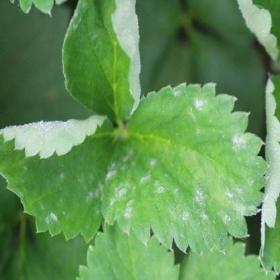Powdery Mildew Leaf: (99, 81, 272, 257), (0, 114, 122, 245), (62, 0, 142, 126), (258, 74, 279, 277), (235, 0, 279, 62)
